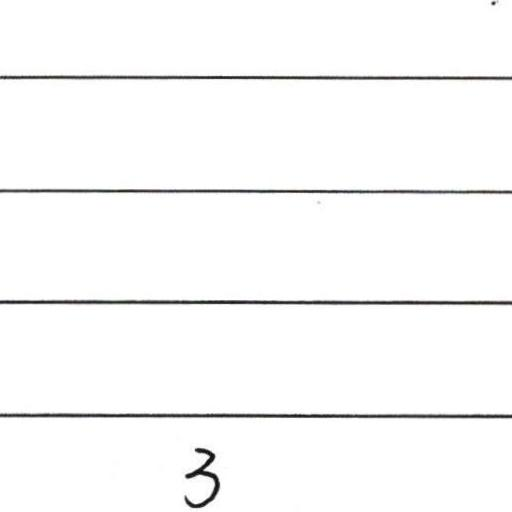ans: (179, 441, 224, 511)
